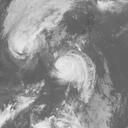cyclone: (54, 51, 95, 87), (8, 21, 40, 58)
